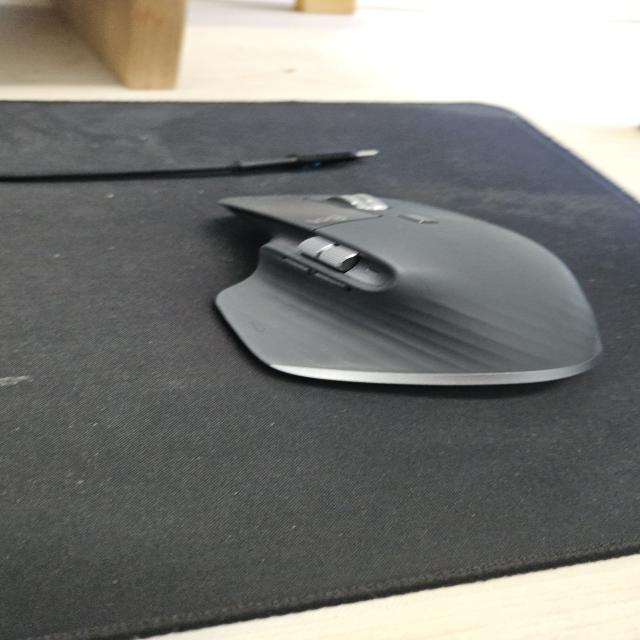Mouse: (210, 190, 605, 388)
